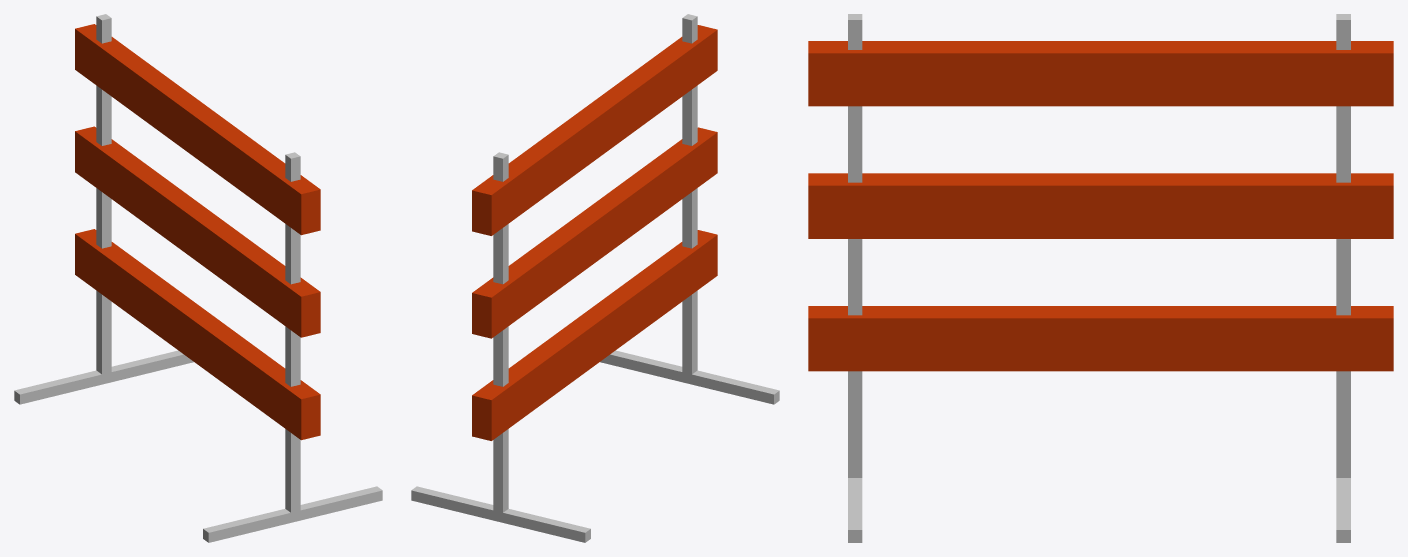
File: traffic barricade 1.fbx
The picture shows the model from 3 angles, left to right: view 1: azimuth 30°, elevation 25°; view 2: azimuth 150°, elevation 25°; view 3: azimuth 270°, elevation 25°; orthographic projection. The views are drawn at different scales.
Parts seen in each view (by area): view 1: Cube; view 2: Cube; view 3: Cube.
Part boxes in pixels (box(x1,y1,x2,y2)): Cube: box(14, 14, 382, 542); Cube: box(411, 14, 779, 542); Cube: box(808, 14, 1393, 542).
Size of the model in its own units: 88.83 by 178 by 200.
